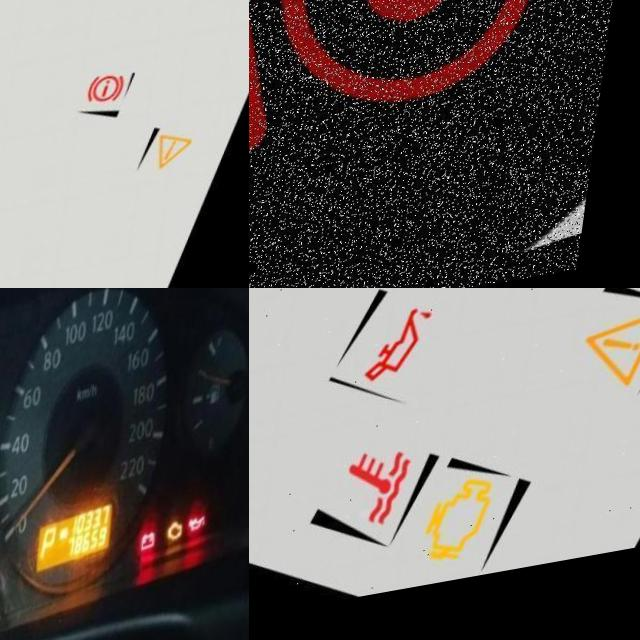Electronic Power Steering: (249, 0, 597, 218)
